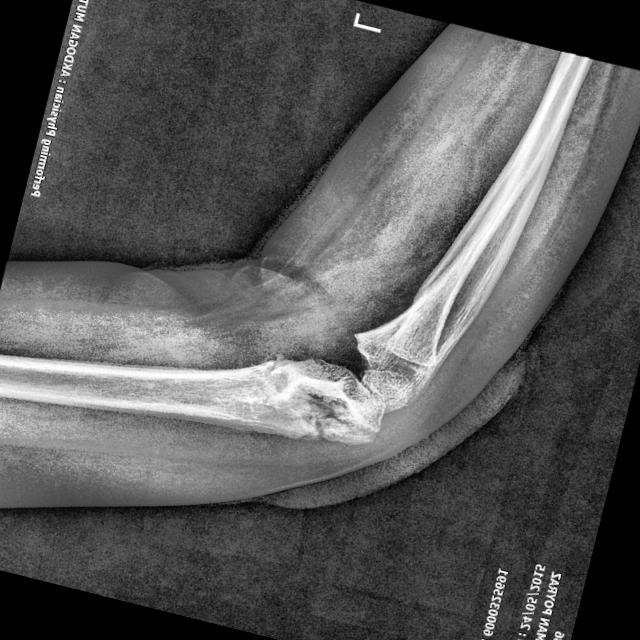Fracture: (282, 390, 381, 462)
